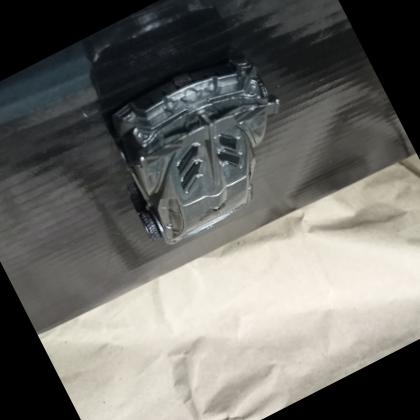Car: (106, 52, 280, 243)
